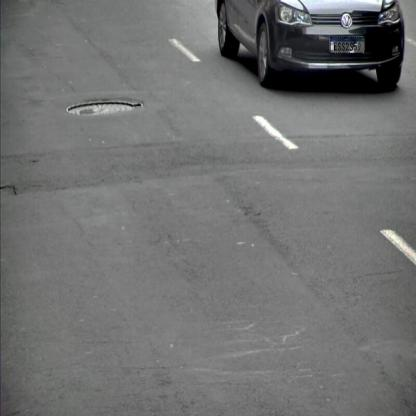PlacaM: (330, 37, 365, 53)
